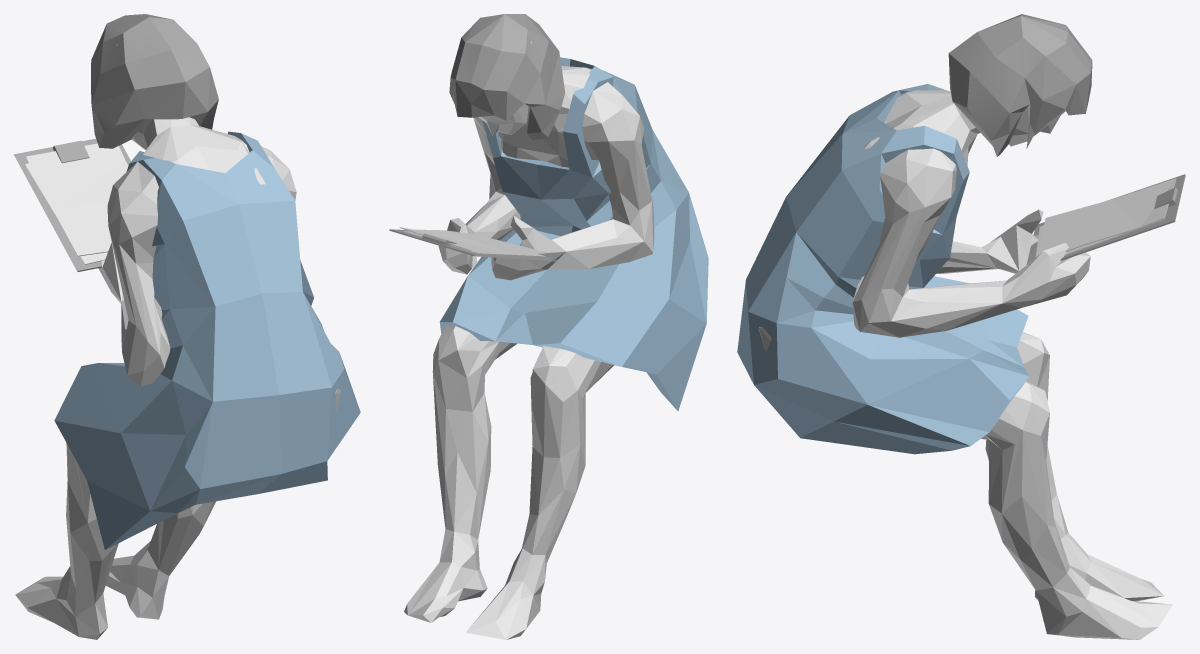
Rendered from female_read.fbx.
3 renders of one model, left to right at view 1: azimuth 30°, elevation 25°; view 2: azimuth 150°, elevation 25°; view 3: azimuth 270°, elevation 25°, orthographic. The views are drawn at different scales.
Parts seen in each view (by area): view 1: polySurface47; view 2: polySurface47; view 3: polySurface47.
Part boxes in pixels (bbox=[...]): polySurface47: bbox=[14, 14, 360, 639]; polySurface47: bbox=[389, 14, 708, 639]; polySurface47: bbox=[737, 14, 1185, 639].
Bounding box in the file's own units: 43.86 × 123 × 81.51.
